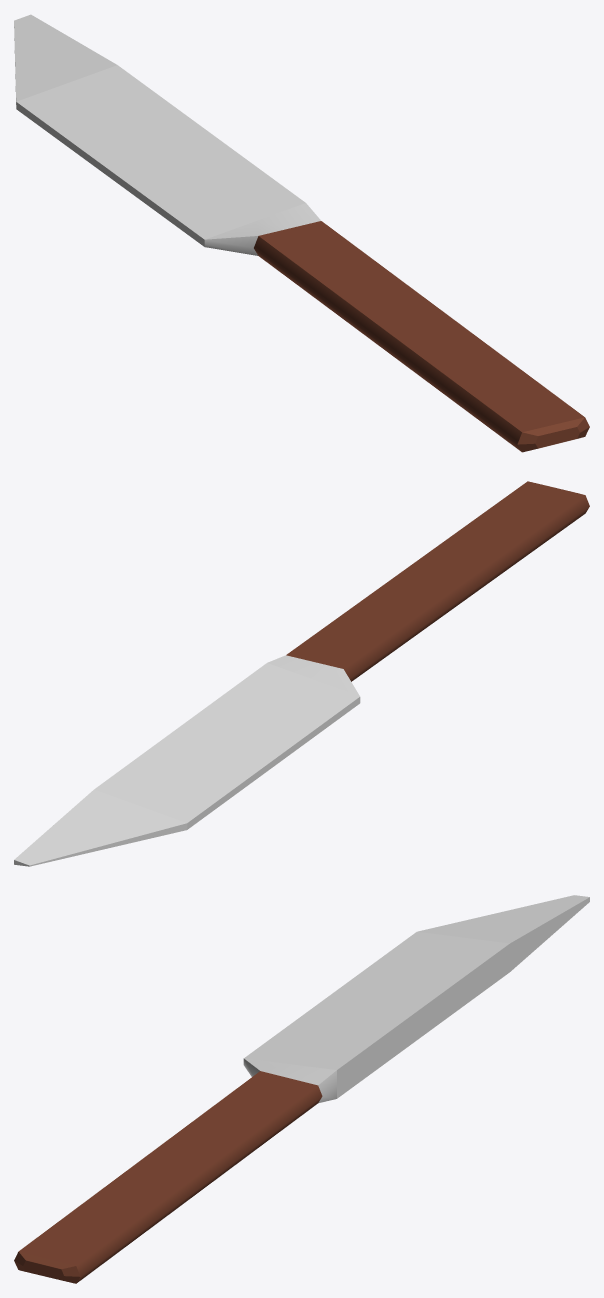
The model's file is knife.fbx.
3 renders of one model, top to bottom at view 1: azimuth 30°, elevation 25°; view 2: azimuth 150°, elevation 25°; view 3: azimuth 330°, elevation 25°, orthographic. The views are drawn at different scales.
Visible parts, largest first — view 1: diiner_objects_1:dner_objects:pCube1; view 2: diiner_objects_1:dner_objects:pCube1; view 3: diiner_objects_1:dner_objects:pCube1.
Part boxes in pixels (x1,y1,x2,y2): diiner_objects_1:dner_objects:pCube1: (14, 14, 589, 452); diiner_objects_1:dner_objects:pCube1: (14, 481, 589, 866); diiner_objects_1:dner_objects:pCube1: (14, 895, 589, 1283).
Bounding box in the file's own units: 0.8774 × 0.2531 × 8.2.
